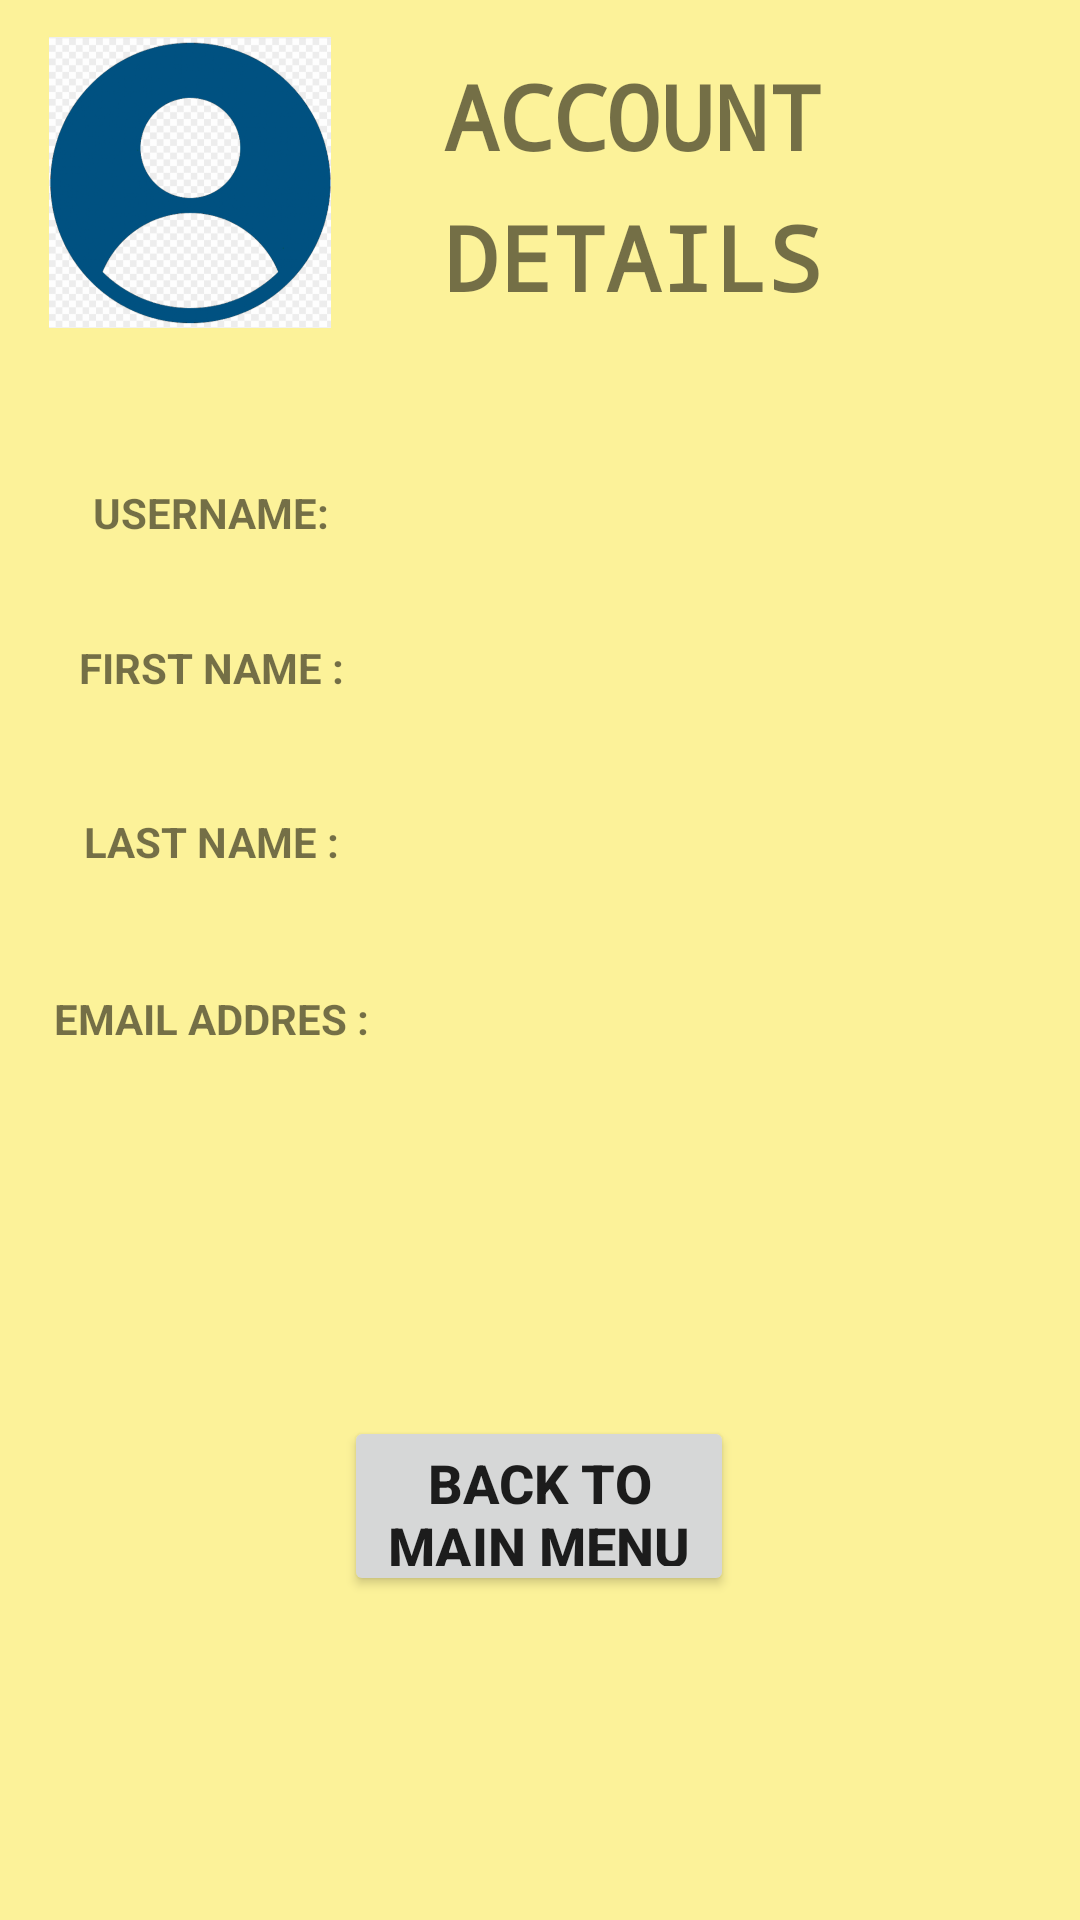

Named icons in this screenshot (1080x1920) and their centers, (x=x, y=y):
usericon: (x=190, y=182)
